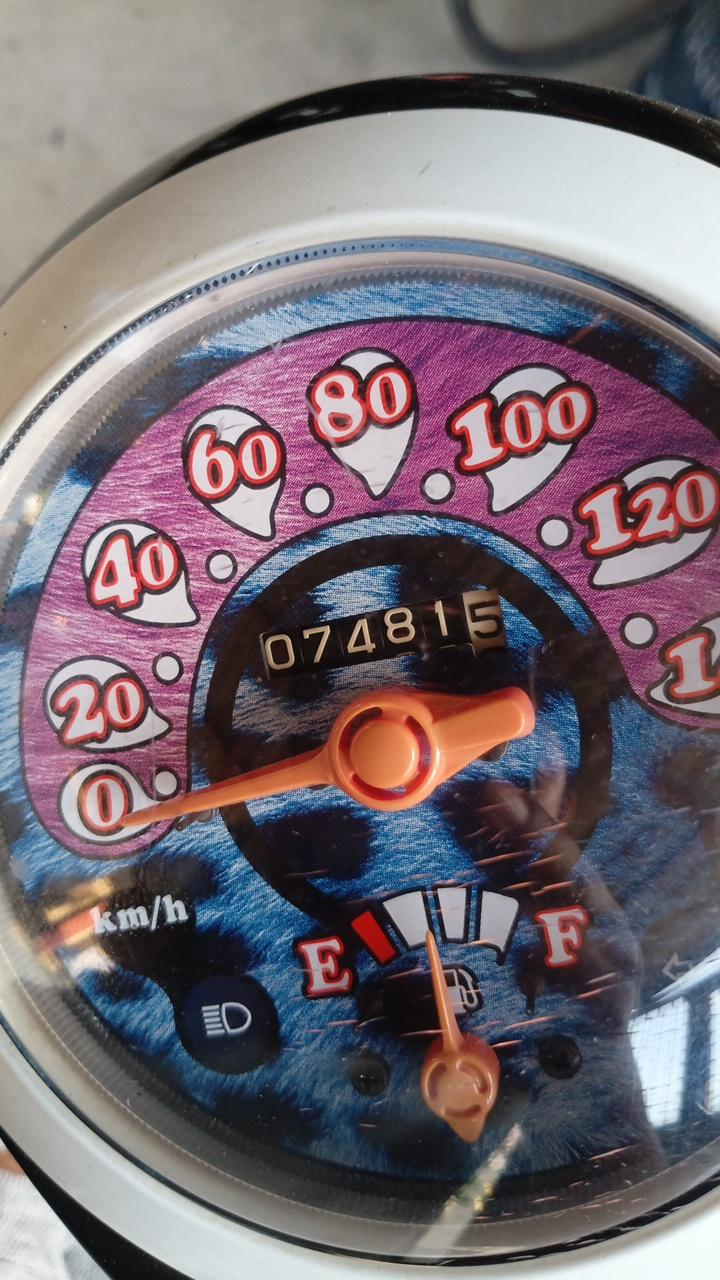0: (264, 633, 295, 671)
1: (434, 599, 449, 639)
4: (344, 617, 376, 656)
5: (467, 595, 505, 642)
7: (302, 624, 331, 665)
8: (383, 605, 415, 645)
odometer: (256, 582, 509, 688)
